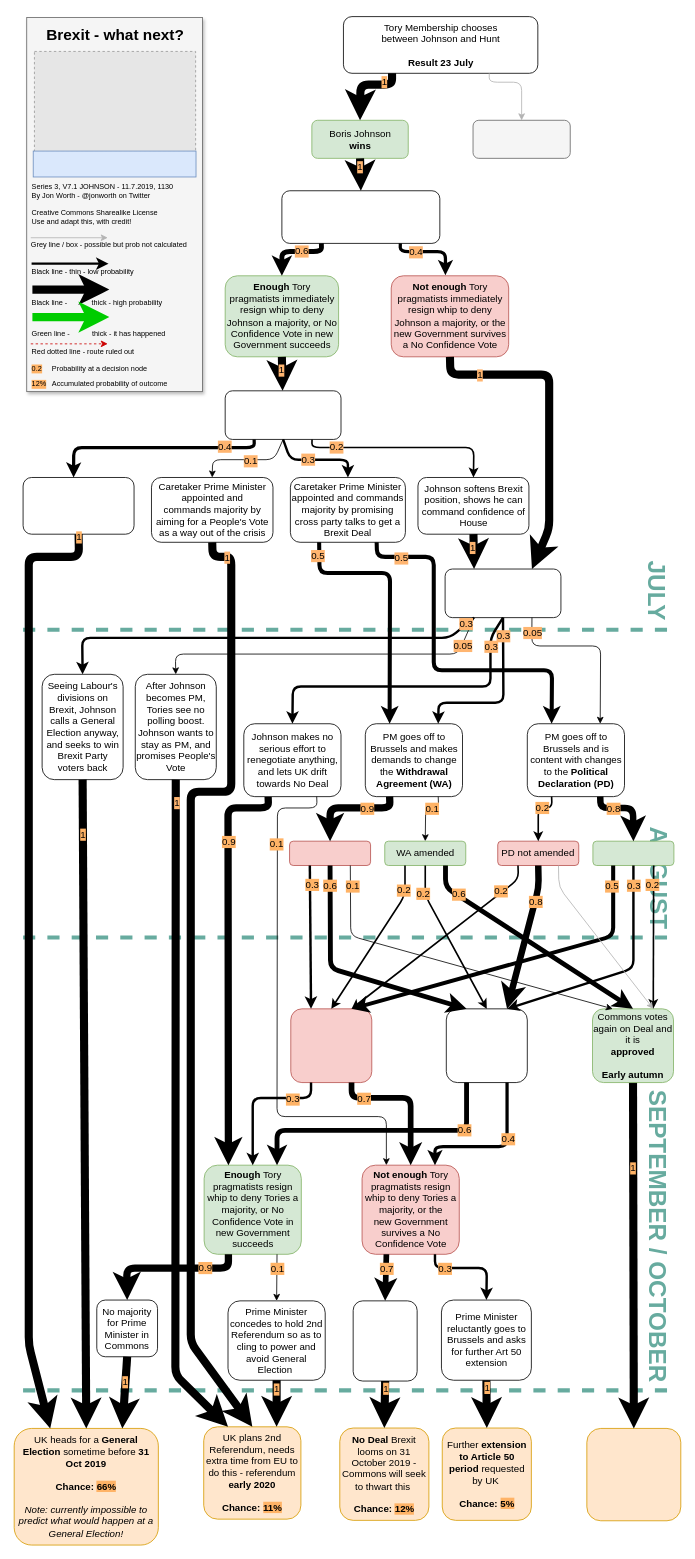
The diagram is 695 pixels wide and 1559 high, and some of its shapes have lost their labels. Grey dashed boxes stand in for pictures. The shapes that lost their labels are listed below. From the top down, each one's centre as x and y in pixels, then its label:
At pixel 521 138: "Jeremy Hunt wins".
At pixel 114 163: "Assuming Johnson wins".
At pixel 360 216: "Theresa May goes to Buckingham Palace and tenders resignation 24 July".
At pixel 282 414: "14 days scramble for a solution, Commons recess postponed".
At pixel 78 505: "No solution found, so election has to take place (Fixed Term Parliaments Act)".
At pixel 502 593: "Johnson appointed PM Survives into summer".
At pixel 330 852: "WA not amended".
At pixel 633 852: "PD amended".
At pixel 331 1045: "Commons votes again on Deal and it is rejected again Early autumn".
At pixel 486 1045: "No vote on any Deal happens Early autumn".
At pixel 384 1340: "Prime Minister sees no route other than No Deal Brexit".
At pixel 633 1474: "Brexit with a Deal happens legally but possibly after 31 October 2019 Chance: 6%".
